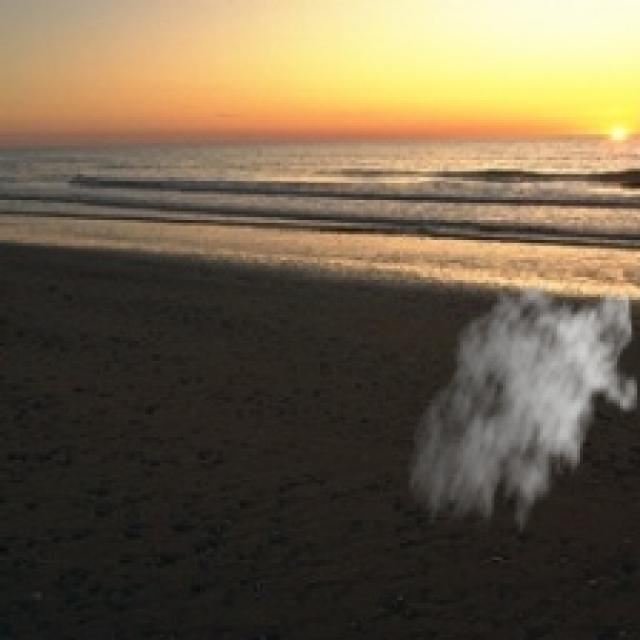smoke: (406, 274, 637, 549)
